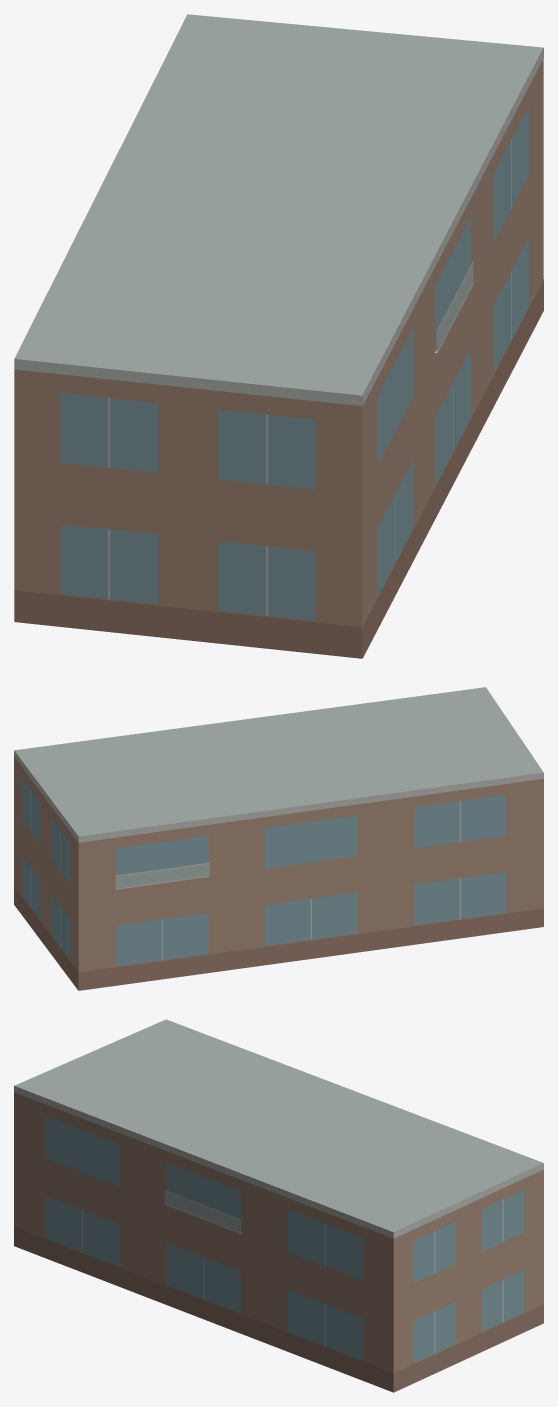
Rendered from survey-upis-32982331.glb.
The picture shows the model from 3 angles, top to bottom: view 1: azimuth 30°, elevation 25°; view 2: azimuth 150°, elevation 25°; view 3: azimuth 270°, elevation 25°; orthographic projection. The views are drawn at different scales.
Parts seen in each view (by area): view 1: survey-upis-32982331.tmp; view 2: survey-upis-32982331.tmp; view 3: survey-upis-32982331.tmp.
Boxes of the visible parts, x1,y1,x2,y2 form: survey-upis-32982331.tmp: (14,14,543,658); survey-upis-32982331.tmp: (14,687,543,990); survey-upis-32982331.tmp: (14,1019,543,1392).
Size of the model in its own units: 17.39 by 6.1 by 18.28.
